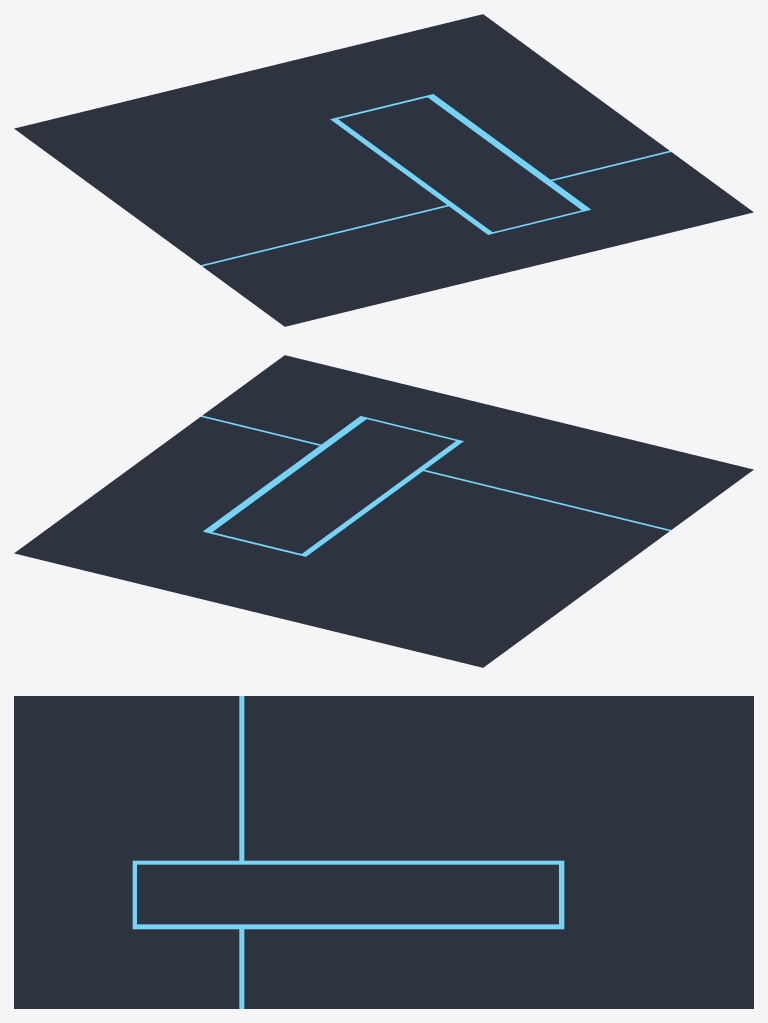
The picture shows the model from 3 angles, top to bottom: view 1: azimuth 30°, elevation 25°; view 2: azimuth 150°, elevation 25°; view 3: azimuth 270°, elevation 25°; orthographic projection. The views are drawn at different scales.
Visible parts, largest first — view 1: 墙面1_2; view 2: 墙面1_2; view 3: 墙面1_2.
Part boxes in pixels (bbox=[...]): 墙面1_2: bbox=[14, 14, 753, 326]; 墙面1_2: bbox=[14, 355, 753, 667]; 墙面1_2: bbox=[14, 696, 753, 1008].
Bounding box in the file's own units: 400 × 0 × 400.
